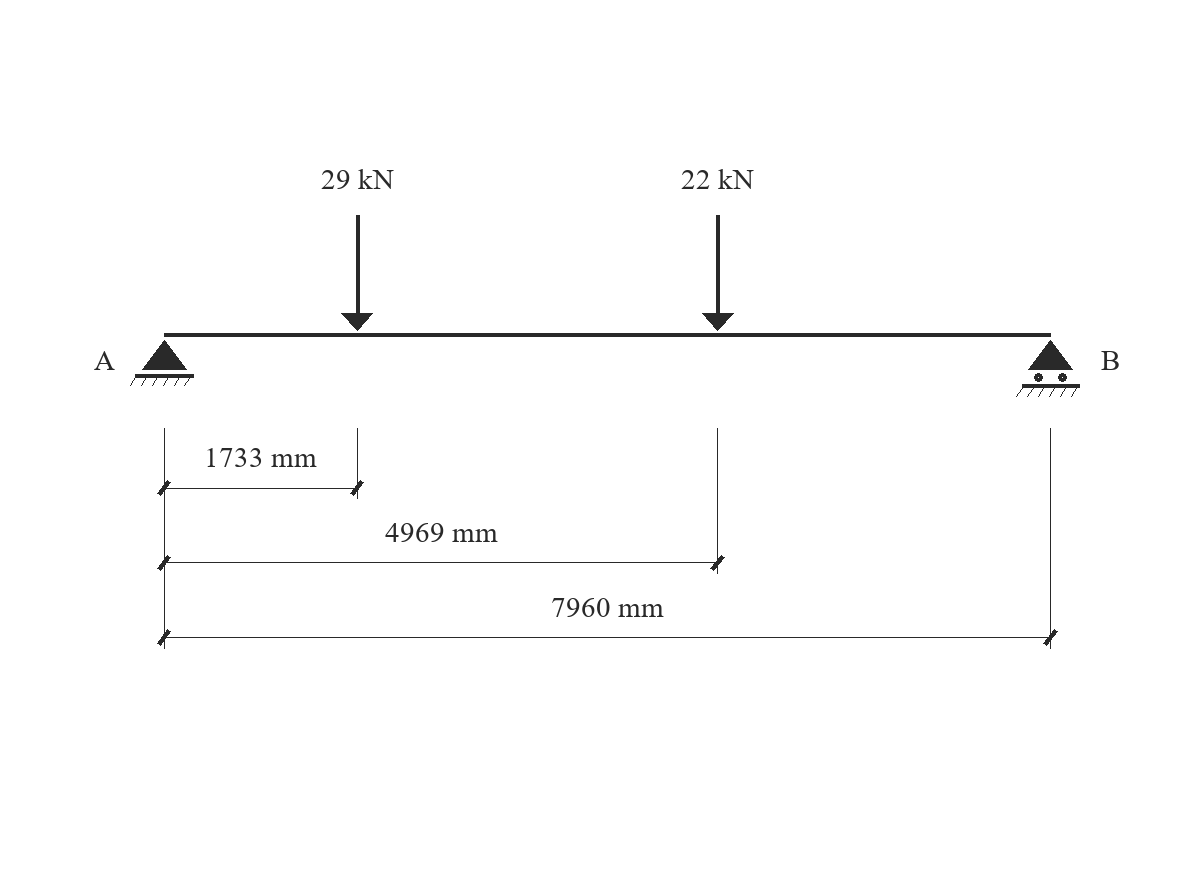pin_support: (130, 340, 194, 386)
point_load: (341, 215, 373, 331), (702, 215, 734, 331)
roller_support: (1016, 340, 1080, 397)
